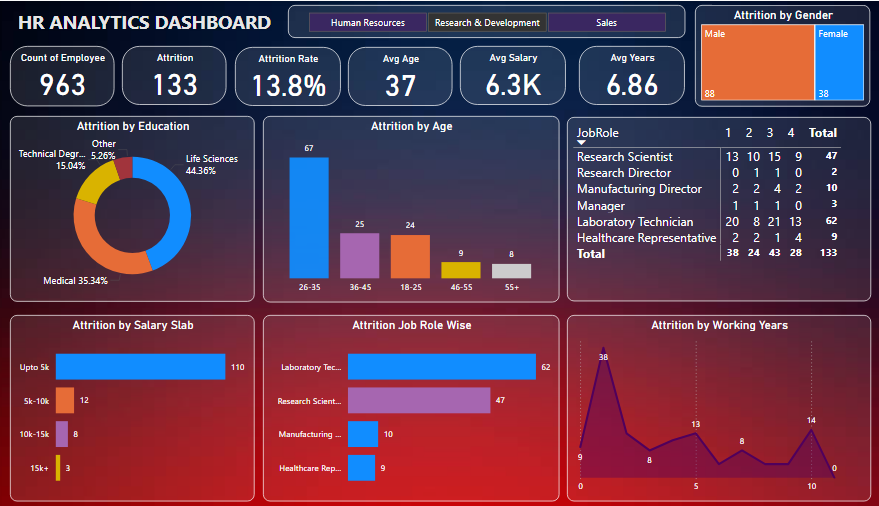

Layout of this report page (visuals, bound fields, positions):
{"tool":"powerbi","page":{"name":"Page 1","canvas":[1280,720],"ordinal":0},"visuals":[{"type":"card","title":"Count of Employee","fields":{"Values":["CountNonNull(HR_Analytics.EmpID)"]},"box":[28.1,63.6,149.5,85.8],"z":0},{"type":"card","title":"Attrition","fields":{"Values":["Sum(HR_Analytics.AttritionCount)"]},"box":[187.9,63.6,149.5,84.3],"z":1000},{"type":"card","title":"Attrition Rate","fields":{"Values":["HR_Analytics.AttritionRate"]},"box":[349.2,65.1,150.9,84.3],"z":2000},{"type":"card","title":"Avg Age","fields":{"Values":["Avg(HR_Analytics.Age)"]},"box":[510.5,65.1,149.5,84.3],"z":3000},{"type":"card","title":"Avg Salary","fields":{"Values":["Avg(HR_Analytics.MonthlyIncome)"]},"box":[670.3,63.6,150.9,84.3],"z":4000},{"type":"card","title":"Avg Years","fields":{"Values":["Avg(HR_Analytics.YearsAtCompany)"]},"box":[840.5,63.6,150.9,84.3],"z":5000},{"type":"donutChart","title":"Attrition by Education","fields":{"Y":["Sum(HR_Analytics.AttritionCount)"],"Category":["HR_Analytics.EducationField"]},"box":[28.1,164.3,349.2,264.9],"z":6000},{"type":"columnChart","title":"Attrition by Age","fields":{"Category":["HR_Analytics.AgeGroup"],"Y":["Sum(HR_Analytics.AttritionCount)"]},"box":[389.5,163.8,422.5,265.6],"z":7000},{"type":"pivotTable","fields":{"Rows":["HR_Analytics.JobRole"],"Columns":["HR_Analytics.JobSatisfaction"],"Values":["Sum(HR_Analytics.AttritionCount)"]},"box":[822.8,165.7,433.6,263.4],"z":8000},{"type":"barChart","title":"Attrition by Salary Slab","fields":{"Category":["HR_Analytics.SalarySlab"],"Y":["Sum(HR_Analytics.AttritionCount)"]},"box":[28.1,448.4,349.2,266.4],"z":9000},{"type":"barChart","title":"Attrition Job Role Wise","fields":{"Category":["HR_Analytics.JobRole"],"Y":["Sum(HR_Analytics.AttritionCount)"]},"box":[389.2,448.4,423.2,266.4],"z":10000},{"type":"areaChart","title":"Attrition by Working Years","fields":{"Category":["HR_Analytics.YearsAtCompany"],"Y":["Sum(HR_Analytics.AttritionCount)"]},"box":[822.8,448.4,433.6,266.4],"z":11000},{"type":"treemap","title":"Attrition by Gender","fields":{"Group":["HR_Analytics.Gender"],"Values":["Sum(HR_Analytics.AttritionCount)"]},"box":[1006.2,5.9,250.1,145],"z":12000},{"type":"slicer","fields":{"Values":["HR_Analytics.Department"]},"box":[424.7,5.9,566.8,47.4],"z":13000},{"type":"textbox","box":[28.1,5.9,383.3,47.4],"z":14000}]}

Visuals, with their boxes in screenshot pixels (x1, y1, x2, y2), scaled from the page's 1280x720 canvas onto the 879x506 screenshot:
"Count of Employee" card: (19,45,122,105)
"Attrition" card: (129,45,232,104)
"Attrition Rate" card: (240,46,343,105)
"Avg Age" card: (351,46,453,105)
"Avg Salary" card: (460,45,564,104)
"Avg Years" card: (577,45,681,104)
"Attrition by Education" donutChart: (19,115,259,302)
"Attrition by Age" columnChart: (267,115,558,302)
pivotTable - HR_Analytics.JobRole x HR_Analytics.JobSatisfaction: (565,116,863,302)
"Attrition by Salary Slab" barChart: (19,315,259,502)
"Attrition Job Role Wise" barChart: (267,315,558,502)
"Attrition by Working Years" areaChart: (565,315,863,502)
"Attrition by Gender" treemap: (691,4,863,106)
slicer - HR_Analytics.Department: (292,4,681,37)
textbox: (19,4,283,37)
